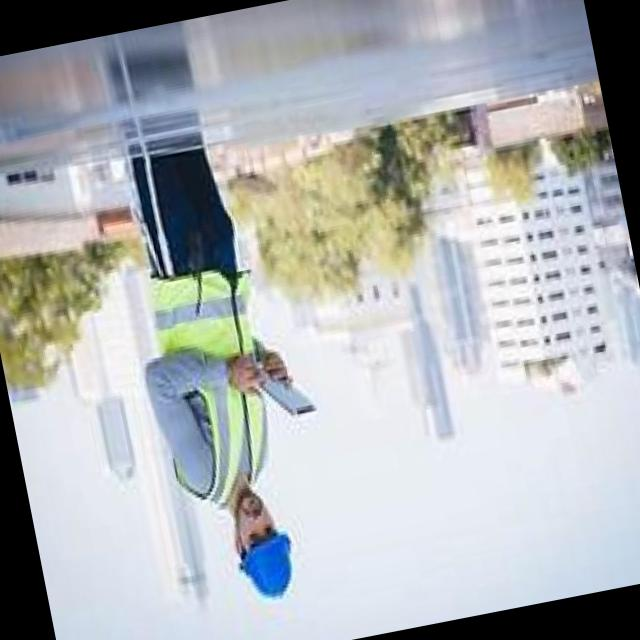not-gloved: (220, 356, 259, 412), (260, 346, 298, 398)
